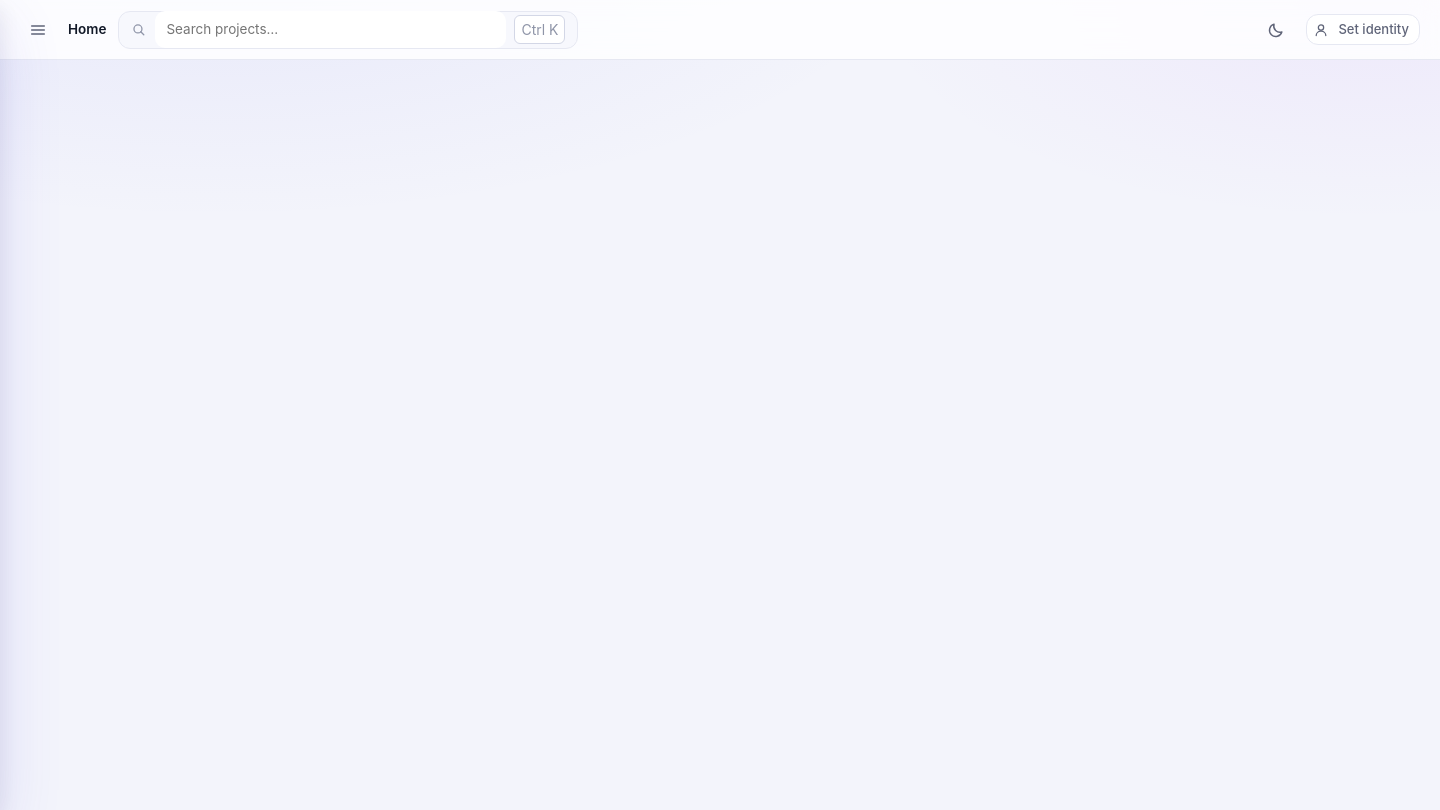
Test: AppShell — hamburger / sidebar navigation › mobile: clicking the hamburger opens the off-canvas drawer with a backdrop
Click the button named "open navigation": (38, 30) left=20, top=12, right=56, bottom=48
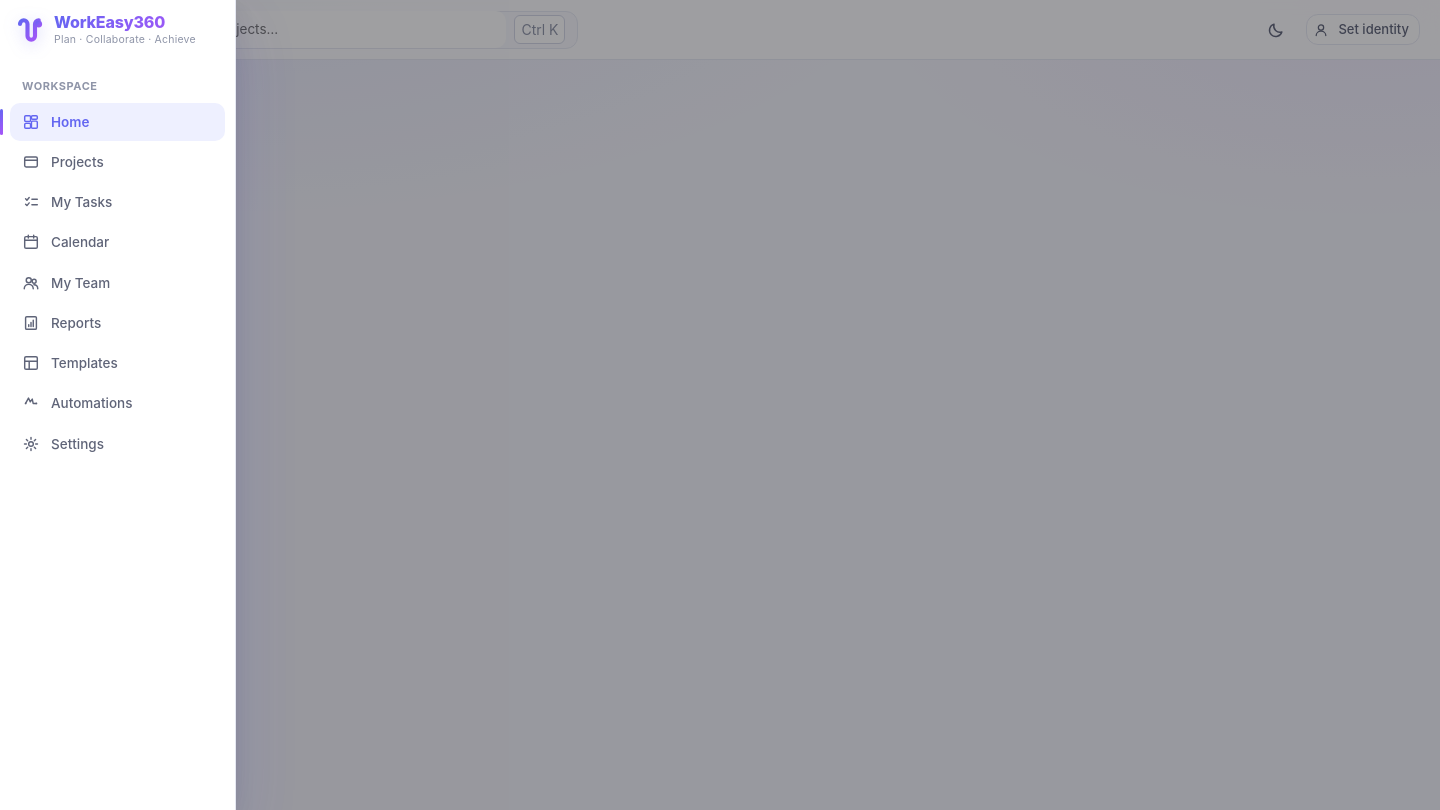
Expected: the element with class "sidebar-backdrop" is shown
